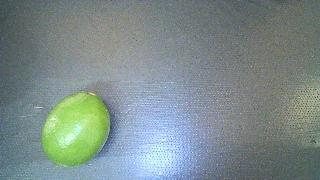EXPORTACION: (41, 91, 110, 167)
